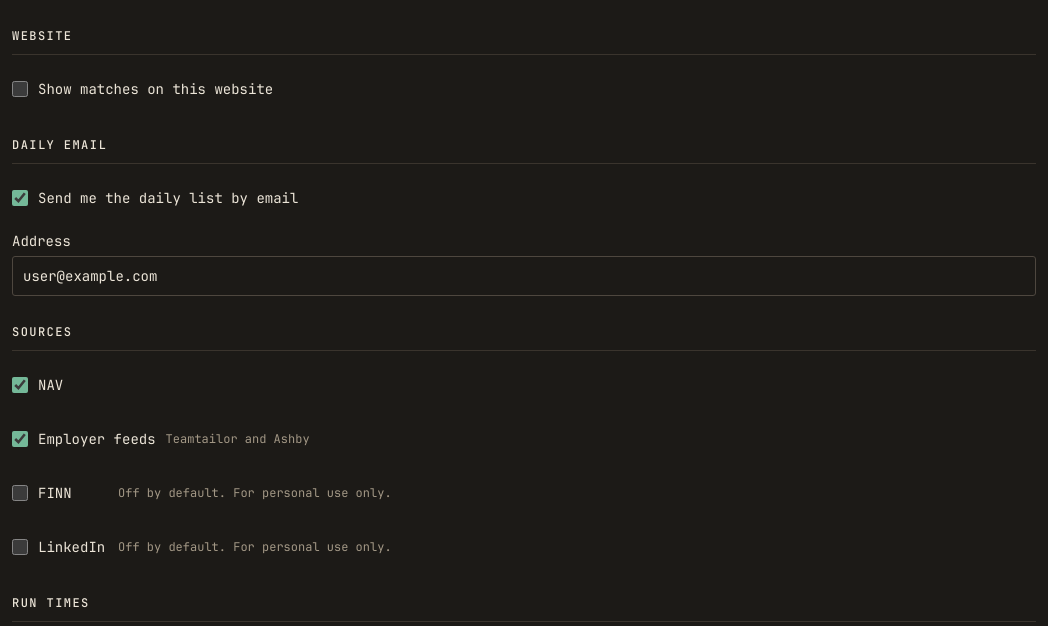
Test: DeliverySettings › should refuse to turn off email when the website is off
Click the checkbox labelled "Send me the daily list by email" at (20, 198), box [12, 190, 28, 206]
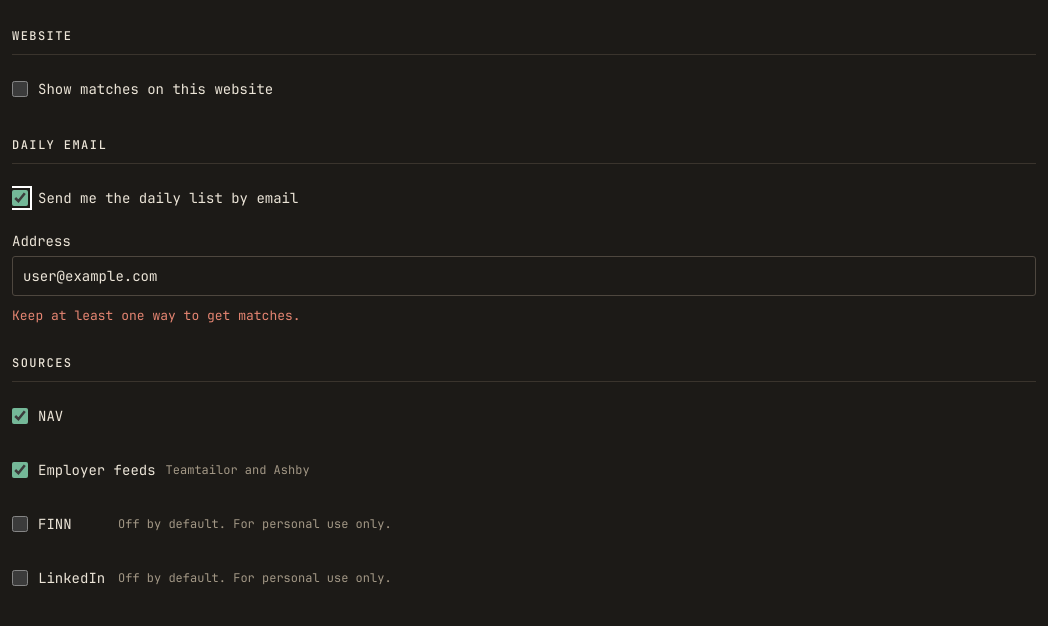
Check: the message reads "Keep at least one way to get matches.", box [12, 307, 301, 324]
